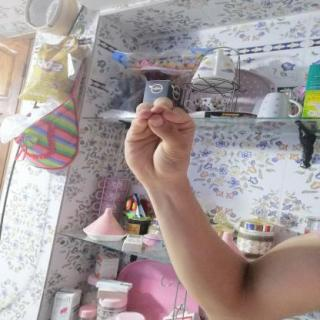HA: (111, 91, 209, 191)
